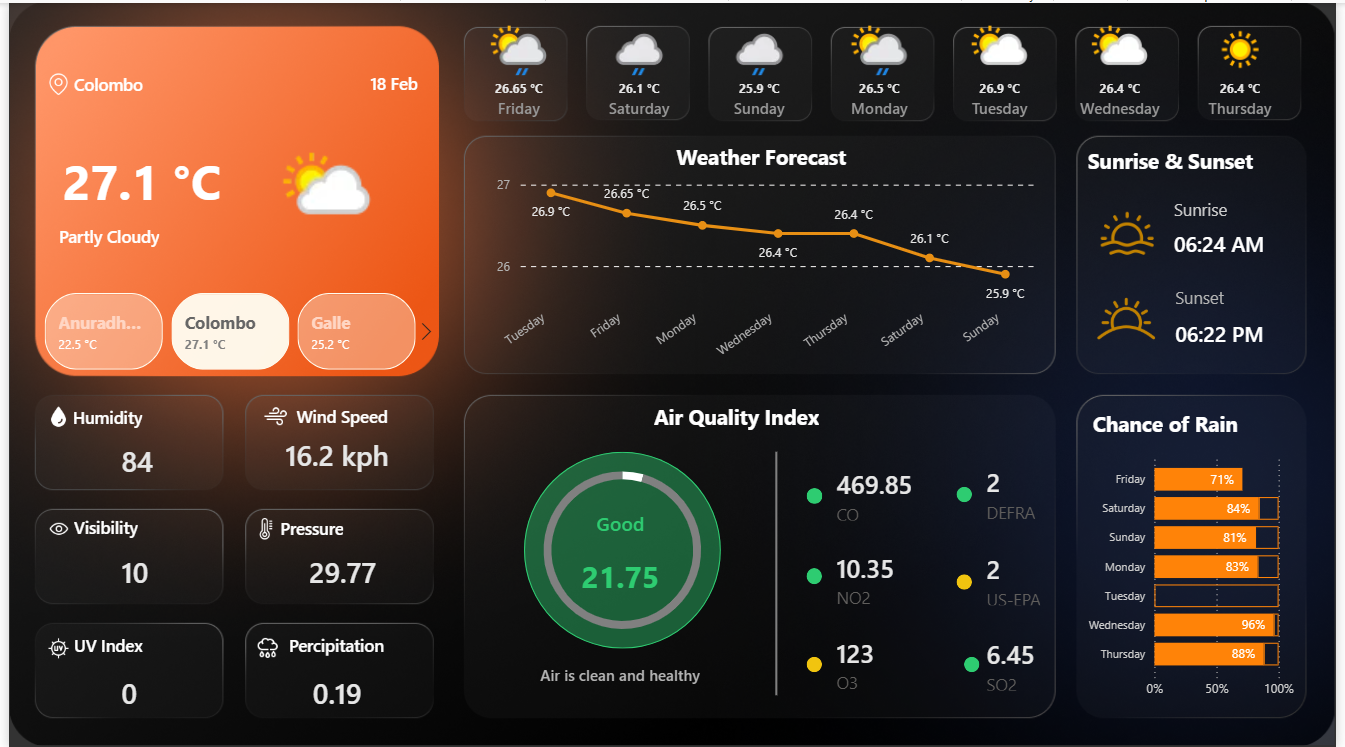

What the dashboard file says about the page in this screenshot:
{"tool":"powerbi","page":{"name":"Page 1","canvas":[1280,720],"ordinal":0},"visuals":[{"type":"shape","box":[1125,209.7,124.3,47.1],"z":0,"group":"g1"},{"type":"shape","box":[496.7,433.3,190,190],"z":0},{"type":"advancedSlicerVisual","fields":{"Values":["Location.location.name"]},"box":[9.7,275.1,409,84.5],"z":1000},{"type":"shape","box":[1126.1,295.7,124.3,47.1],"z":1000,"group":"g1"},{"type":"shape","box":[51.4,135.7,225.7,71.4],"z":2000},{"type":"shape","box":[1125,175.4,124.3,47.1],"z":2000,"group":"g1"},{"type":"shape","box":[48.6,207.1,225.7,34.3],"z":3000},{"type":"shape","box":[1126.1,261.4,124.3,47.1],"z":3000,"group":"g1"},{"type":"shape","box":[235.3,60.3,159.3,35],"z":4000},{"type":"shape","box":[62.7,60.3,172.5,36.2],"z":5000},{"type":"image","box":[36.9,66.2,20.6,24.4],"z":6000},{"type":"cardVisual","fields":{"Data":["Min(Current.current.condition.icon)"]},"box":[214.3,27.1,184.3,217.1],"z":7000},{"type":"image","box":[36.7,496.7,24.4,21.1],"z":8000},{"type":"image","box":[36.9,386.9,20.8,23.8],"z":9000},{"type":"image","box":[36.9,611.5,20.8,23.1],"z":10000},{"type":"image","box":[245.4,386.9,25.4,23.1],"z":11000},{"type":"image","box":[237.7,610.8,23.8,23.8],"z":12000},{"type":"image","box":[235.4,496.9,26.2,20.8],"z":13000},{"type":"shape","box":[61.5,384.6,172.3,30],"z":14000},{"type":"shape","box":[276.9,383.8,108.5,29.2],"z":15000},{"type":"shape","box":[63.1,491.5,127.7,30],"z":16000},{"type":"shape","box":[261.5,492.3,123.8,30],"z":17000},{"type":"shape","box":[63.1,604.6,123.8,30],"z":18000},{"type":"shape","box":[270,604.6,123.8,30],"z":19000},{"type":"cardVisual","fields":{"Data":["Sum(Current.current.humidity)"]},"box":[80,410,91.1,61.1],"z":20000},{"type":"cardVisual","fields":{"Data":["_Measures.Wind_Speed"]},"box":[237.8,398.9,174.4,71.1],"z":21000},{"type":"cardVisual","fields":{"Data":["Sum(Current.current.vis_km)"]},"box":[80,517.8,91.1,61.1],"z":22000},{"type":"cardVisual","fields":{"Data":["Sum(Current.current.pressure_in)"]},"box":[260,517.8,124.4,61.1],"z":23000},{"type":"cardVisual","fields":{"Data":["Sum(Current.current.uv)"]},"box":[80,634.4,91.1,61.1],"z":24000},{"type":"cardVisual","fields":{"Data":["Sum(Current.current.precip_mm)"]},"box":[264.4,634.4,111.1,61.1],"z":25000},{"type":"advancedSlicerVisual","fields":{"Values":["ForecastDay.Day_Name"]},"box":[433.3,15,816.7,115],"z":26000},{"type":"lineChart","title":"Weather Forecast","fields":{"Category":["ForecastDay.Day_Name"],"Y":["Avg(ForecastDay.forecast.forecastday.day.avgtemp_c)"]},"box":[455.7,135.7,540,224.3],"z":27000},{"type":"shape","box":[1041.4,131.4,204.3,40],"z":28000},{"type":"group","id":"g1","title":"Group 1","box":[1125,175.4,125.4,167.4],"z":29000},{"type":"image","box":[1051.4,197.1,54.3,51.4],"z":30000},{"type":"image","box":[1041.4,267.1,74.3,75.7],"z":31000},{"type":"hundredPercentStackedBarChart","fields":{"Y":["Sum(ForecastDay.forecast.forecastday.day.daily_chance_of_rain)","_Measures.Left_Value_Rain"],"Category":["ForecastDay.Day_Name"]},"box":[1032.9,424.3,212.9,255.7],"z":32000},{"type":"shape","box":[1045.7,384.3,204.3,40],"z":33000},{"type":"shape","box":[622.9,378.6,204.3,40],"z":34000},{"type":"cardVisual","fields":{"Data":["Sum(Current.current.air_quality.co)"]},"box":[769.7,435,132.7,81.8],"z":35000},{"type":"cardVisual","fields":{"Data":["Sum(Current.current.air_quality.no2)"]},"box":[769.7,516.8,132.7,81.8],"z":36000},{"type":"cardVisual","fields":{"Data":["Sum(Current.current.air_quality.o3)"]},"box":[769.7,598.6,132.7,81.8],"z":37000},{"type":"cardVisual","fields":{"Data":["Sum(Current.current.air_quality.gb-defra-index)"]},"box":[914.5,433.6,132.7,82.7],"z":38000},{"type":"cardVisual","fields":{"Data":["Sum(Current.current.air_quality.us-epa-index)"]},"box":[914.5,517.3,132.7,81.8],"z":39000},{"type":"cardVisual","fields":{"Data":["Sum(Current.current.air_quality.so2)"]},"box":[914.5,599.1,132.7,81.8],"z":40000},{"type":"shape","box":[769.8,467.7,15.5,15.5],"z":41000},{"type":"shape","box":[770.2,544.7,15,15.7],"z":42000},{"type":"shape","box":[769.9,631.6,15,15],"z":43000},{"type":"shape","box":[914.4,467.2,15,15],"z":44000},{"type":"shape","box":[914.4,551.1,15,15],"z":45000},{"type":"shape","box":[922.2,631.1,15,15],"z":46000},{"type":"shape","box":[710,433.3,60,235],"z":47000},{"type":"donutChart","fields":{"Y":["Sum(Current.current.air_quality.pm10)","_Measures.Left_Value_PM10"]},"box":[413.3,428.3,356.7,200],"z":47500},{"type":"cardVisual","fields":{"Data":["Sum(Current.current.air_quality.pm10)"]},"box":[521.7,490,138.3,101.7],"z":48000},{"type":"shape","box":[455,631.7,270,33.3],"z":49002}]}

Visuals, with their boxes in screenshot pixels (x1, y1, x2, y2), scaled from the page's 1280x720 canvas onto the 1345x747 screenshot:
shape: 1182/218/1313/266
shape: 522/450/722/647
advancedSlicerVisual - Location.location.name: 10/285/440/373
shape: 1183/307/1314/356
shape: 54/141/291/215
shape: 1182/182/1313/231
shape: 51/215/288/250
shape: 1183/271/1314/320
shape: 247/63/415/99
shape: 66/63/247/100
image: 39/69/60/94
cardVisual - Min(Current.current.condition.icon): 225/28/419/253
image: 39/515/64/537
image: 39/401/61/426
image: 39/634/61/658
image: 258/401/285/425
image: 250/634/275/658
image: 247/516/275/537
shape: 65/399/246/430
shape: 291/398/405/428
shape: 66/510/200/541
shape: 275/511/405/542
shape: 66/627/196/658
shape: 284/627/414/658
cardVisual - Sum(Current.current.humidity): 84/425/180/489
cardVisual - _Measures.Wind_Speed: 250/414/433/488
cardVisual - Sum(Current.current.vis_km): 84/537/180/601
cardVisual - Sum(Current.current.pressure_in): 273/537/404/601
cardVisual - Sum(Current.current.uv): 84/658/180/722
cardVisual - Sum(Current.current.precip_mm): 278/658/395/722
advancedSlicerVisual - ForecastDay.Day_Name: 455/16/1313/135
"Weather Forecast" lineChart: 479/141/1046/374
shape: 1094/136/1309/178
"Group 1" group: 1182/182/1314/356
image: 1105/204/1162/258
image: 1094/277/1172/356
hundredPercentStackedBarChart - Sum(ForecastDay.forecast.forecastday.day.daily_chance_of_rain) x _Measures.Left_Value_Rain: 1085/440/1309/706
shape: 1099/399/1313/440
shape: 655/393/869/434
cardVisual - Sum(Current.current.air_quality.co): 809/451/948/536
cardVisual - Sum(Current.current.air_quality.no2): 809/536/948/621
cardVisual - Sum(Current.current.air_quality.o3): 809/621/948/706
cardVisual - Sum(Current.current.air_quality.gb-defra-index): 961/450/1100/536
cardVisual - Sum(Current.current.air_quality.us-epa-index): 961/537/1100/622
cardVisual - Sum(Current.current.air_quality.so2): 961/622/1100/706
shape: 809/485/825/501
shape: 809/565/825/581
shape: 809/655/825/671
shape: 961/485/977/500
shape: 961/572/977/587
shape: 969/655/985/670
shape: 746/450/809/693
donutChart - Sum(Current.current.air_quality.pm10) x _Measures.Left_Value_PM10: 434/444/809/652
cardVisual - Sum(Current.current.air_quality.pm10): 548/508/694/614
shape: 478/655/762/690
